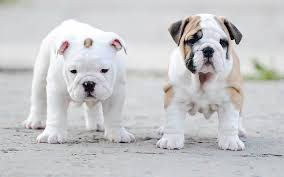Bulldog: (19, 6, 144, 151), (154, 13, 254, 154)
